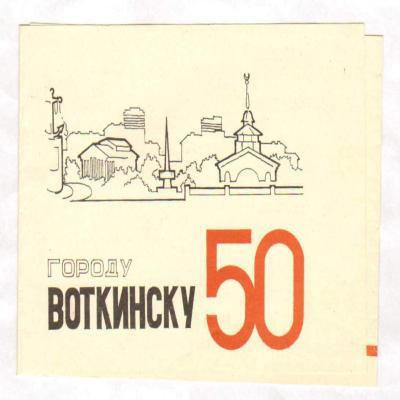printed_products: (18, 23, 380, 386)
